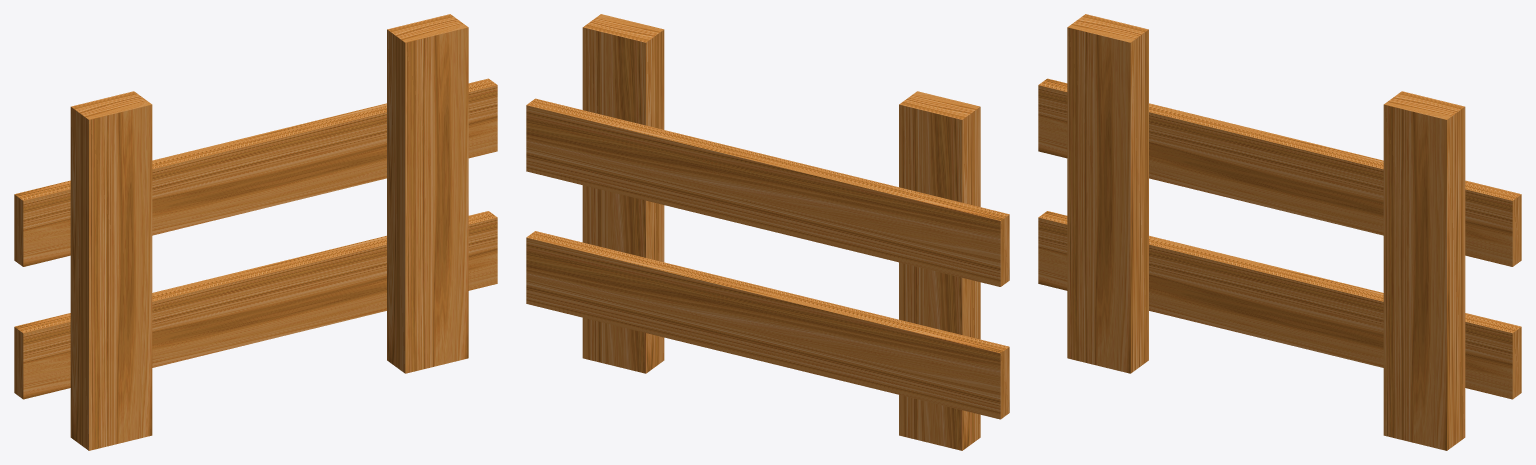
File: hekjeRecht.obj
3 renders of one model, left to right at view 1: azimuth 30°, elevation 25°; view 2: azimuth 150°, elevation 25°; view 3: azimuth 330°, elevation 25°, orthographic.
Visible parts, largest first — view 1: Cube_Cube.001, Cube.001_Cube.002, Cube.002_Cube.003, Cube.003_Cube.004; view 2: Cube.003_Cube.004, Cube.002_Cube.003, Cube.001_Cube.002, Cube_Cube.001; view 3: Cube.001_Cube.002, Cube_Cube.001, Cube.002_Cube.003, Cube.003_Cube.004.
Boxes of the visible parts, bbox=[...] form: Cube_Cube.001: bbox=[70, 91, 152, 450]; Cube.001_Cube.002: bbox=[387, 14, 468, 373]; Cube.002_Cube.003: bbox=[14, 211, 497, 399]; Cube.003_Cube.004: bbox=[14, 78, 497, 266]; Cube.003_Cube.004: bbox=[526, 98, 1009, 286]; Cube.002_Cube.003: bbox=[526, 231, 1009, 419]; Cube.001_Cube.002: bbox=[582, 14, 664, 373]; Cube_Cube.001: bbox=[899, 91, 980, 450]; Cube.001_Cube.002: bbox=[1383, 91, 1465, 450]; Cube_Cube.001: bbox=[1067, 14, 1148, 373]; Cube.002_Cube.003: bbox=[1038, 211, 1521, 399]; Cube.003_Cube.004: bbox=[1038, 78, 1521, 266].
Size of the model in its own units: 1.5 by 1 by 0.15.
1 material, 1 textured.
